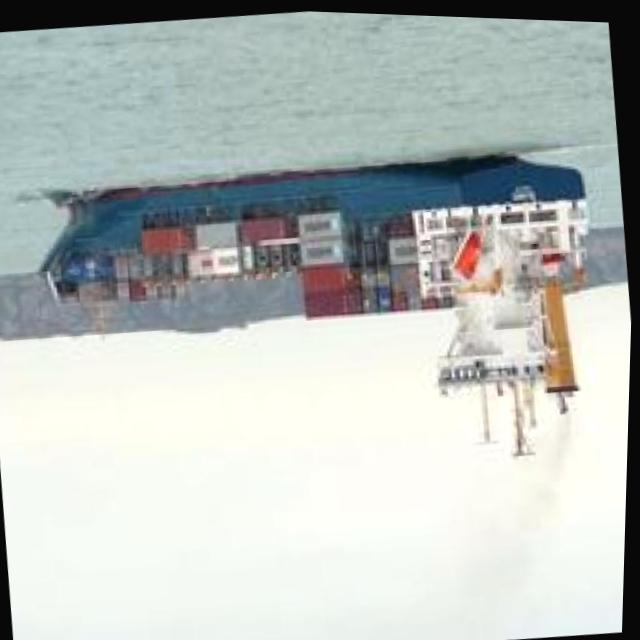ship2: (40, 150, 589, 457)
